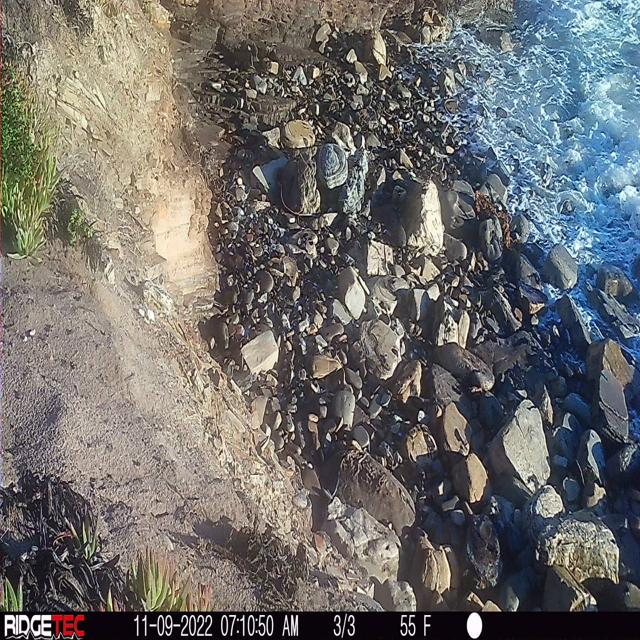bird: (533, 150, 559, 188)
